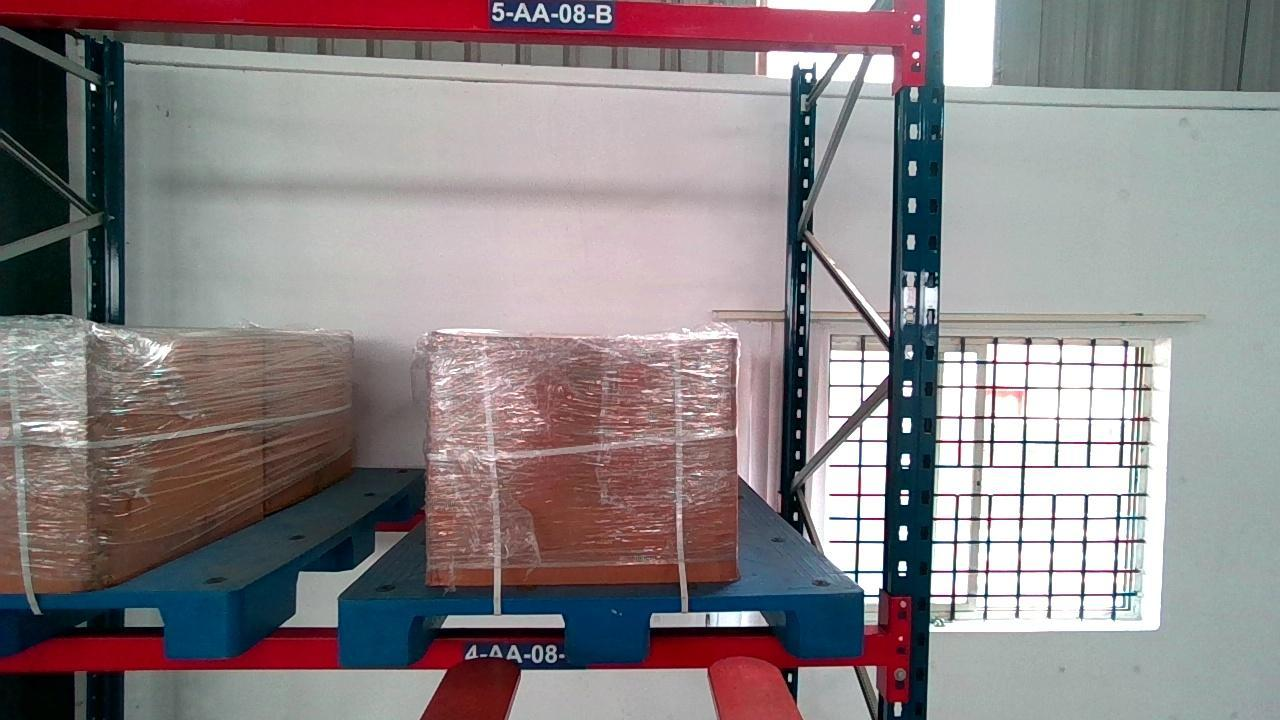h_rack: (1, 0, 903, 44), (3, 630, 893, 670)
small_pallet: (340, 590, 861, 664)
